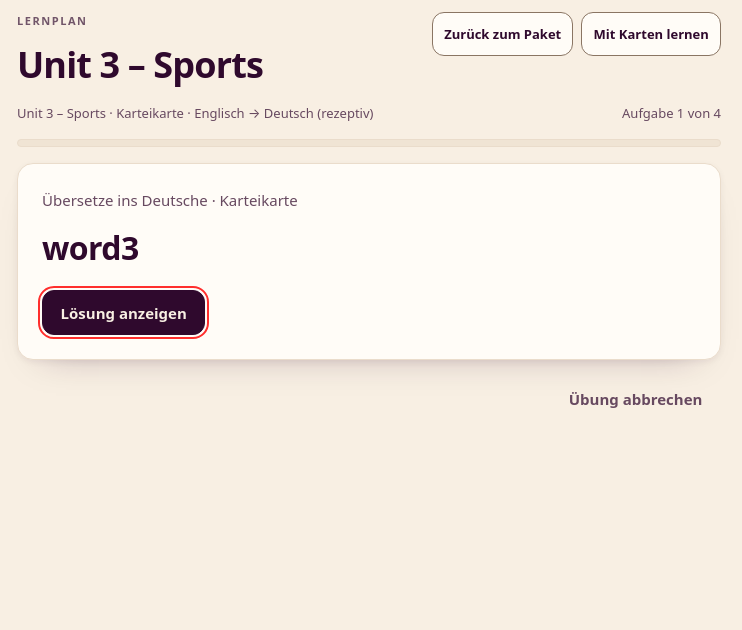
SessionPage – Antwort dauerhaft speichern › behandelt einen Fehler beim Rundenstart kontrolliert
Expected: the text "Aufgabe 1 von 4" is shown, [622,103,721,123]
Click the button "Lösung anzeigen" at (124, 313), box [42,290,205,335]
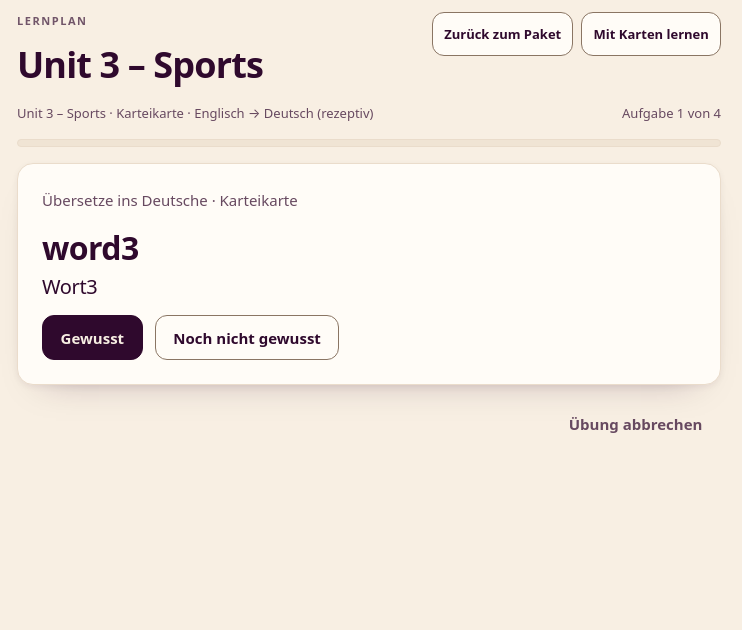
Click the button "Gewusst" at (92, 338), box [42,315,143,360]
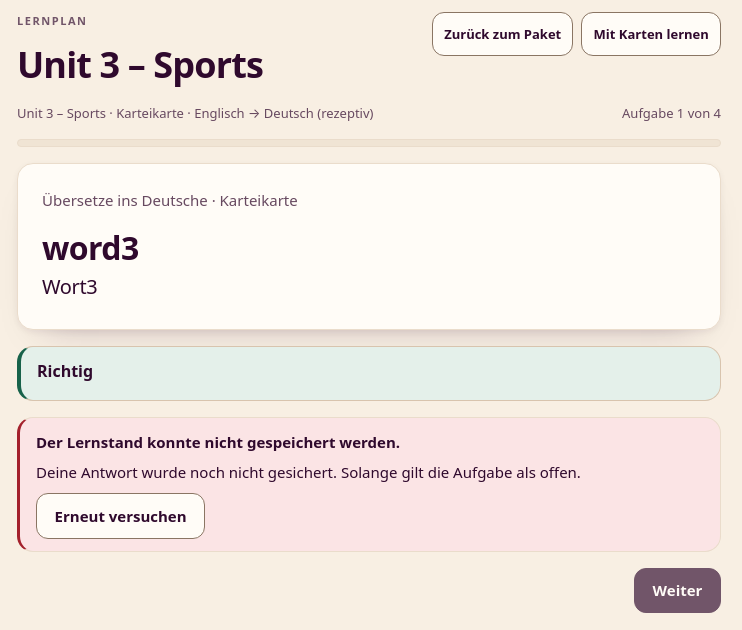
Expected: the text "Der Lernstand konnte nicht gespeichert werden." is shown, [36,432,400,452]
Expected: the button "Weiter" is disabled, [634,568,721,613]
Click the button "Erneut versuchen" at (121, 516), box [36,493,205,539]
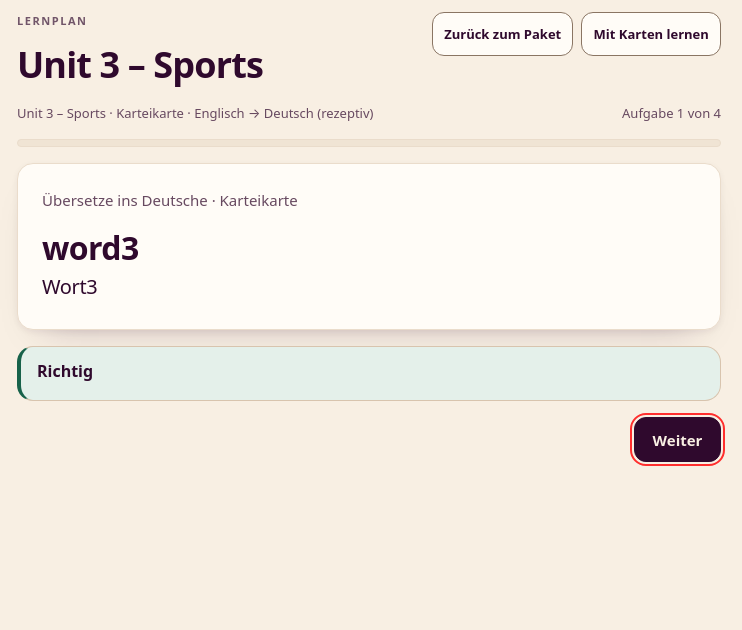
Expected: the button "Weiter" is enabled, [634,417,721,462]
